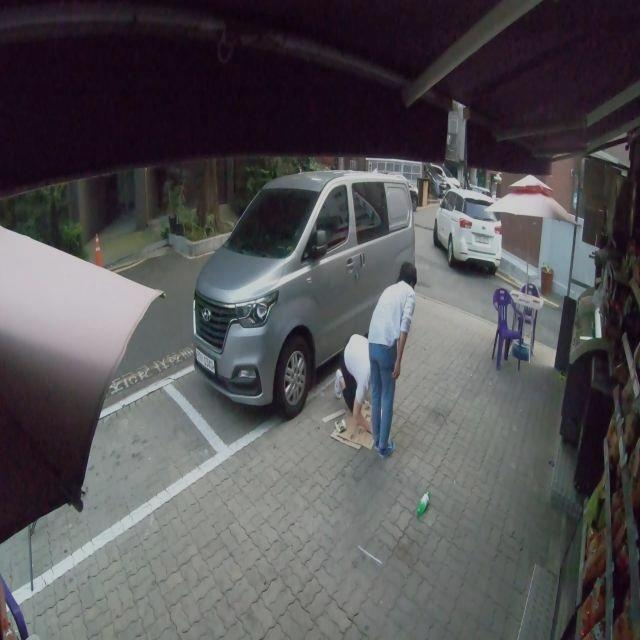fight: (334, 268, 415, 457)
